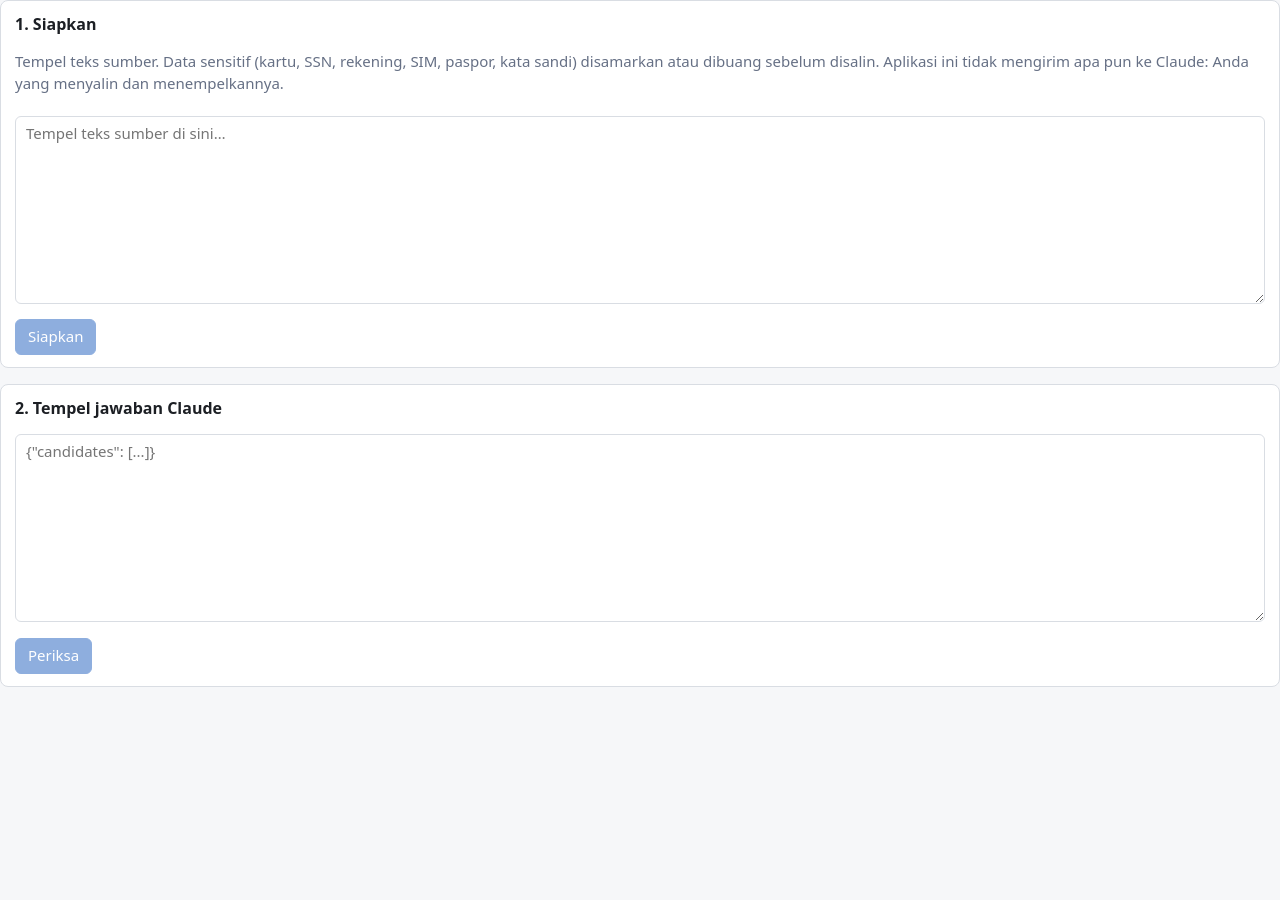
Test: BridgeTab › shows the general answer error as the server sent it
This screenshot has width=1280, height=900.
Type "src" into the text box labelled "teks sumber" at (640, 210), box [15,116,1265,304]
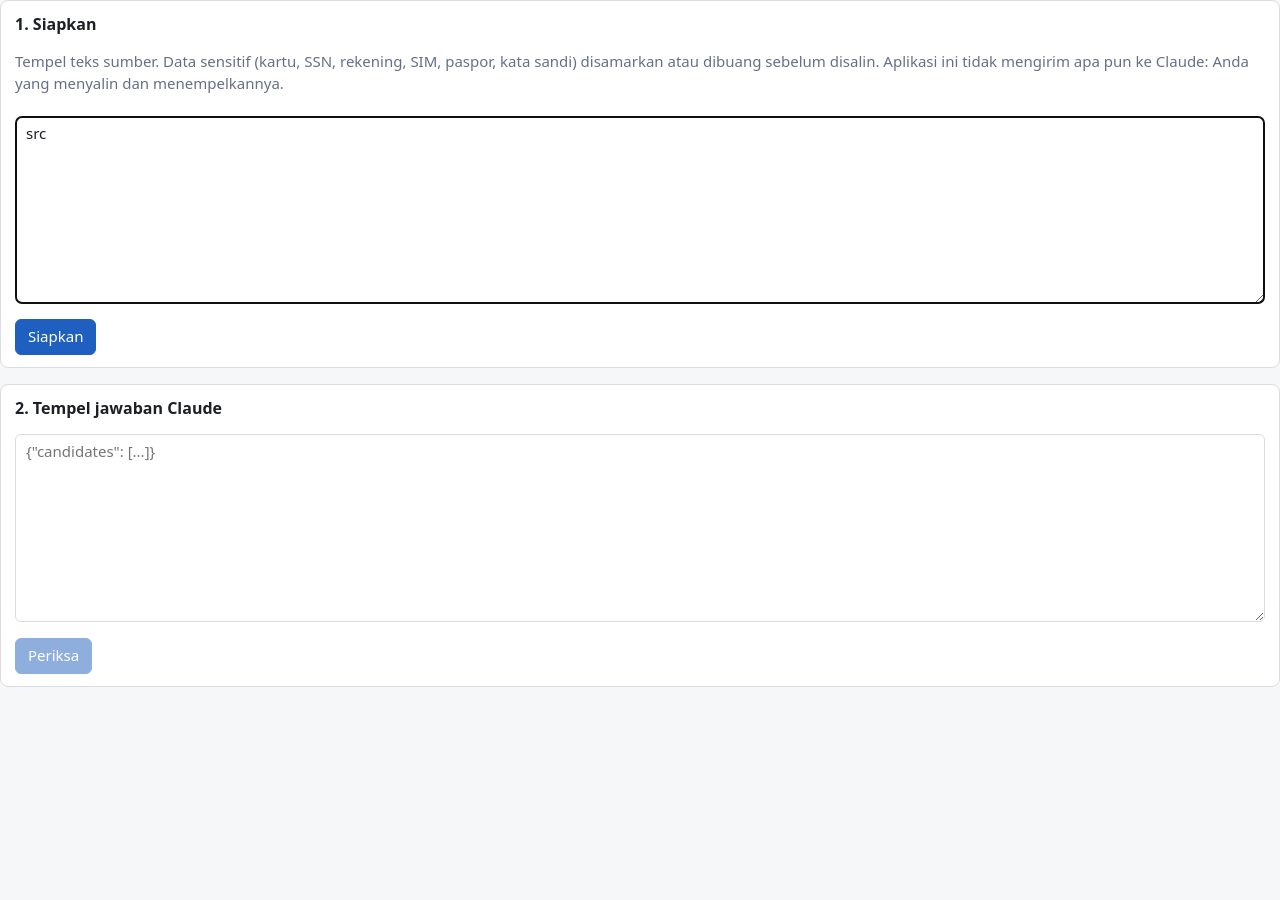
Type "oops" into the text box named "Jawaban JSON dari Claude" at (640, 528), box [15,434,1265,622]
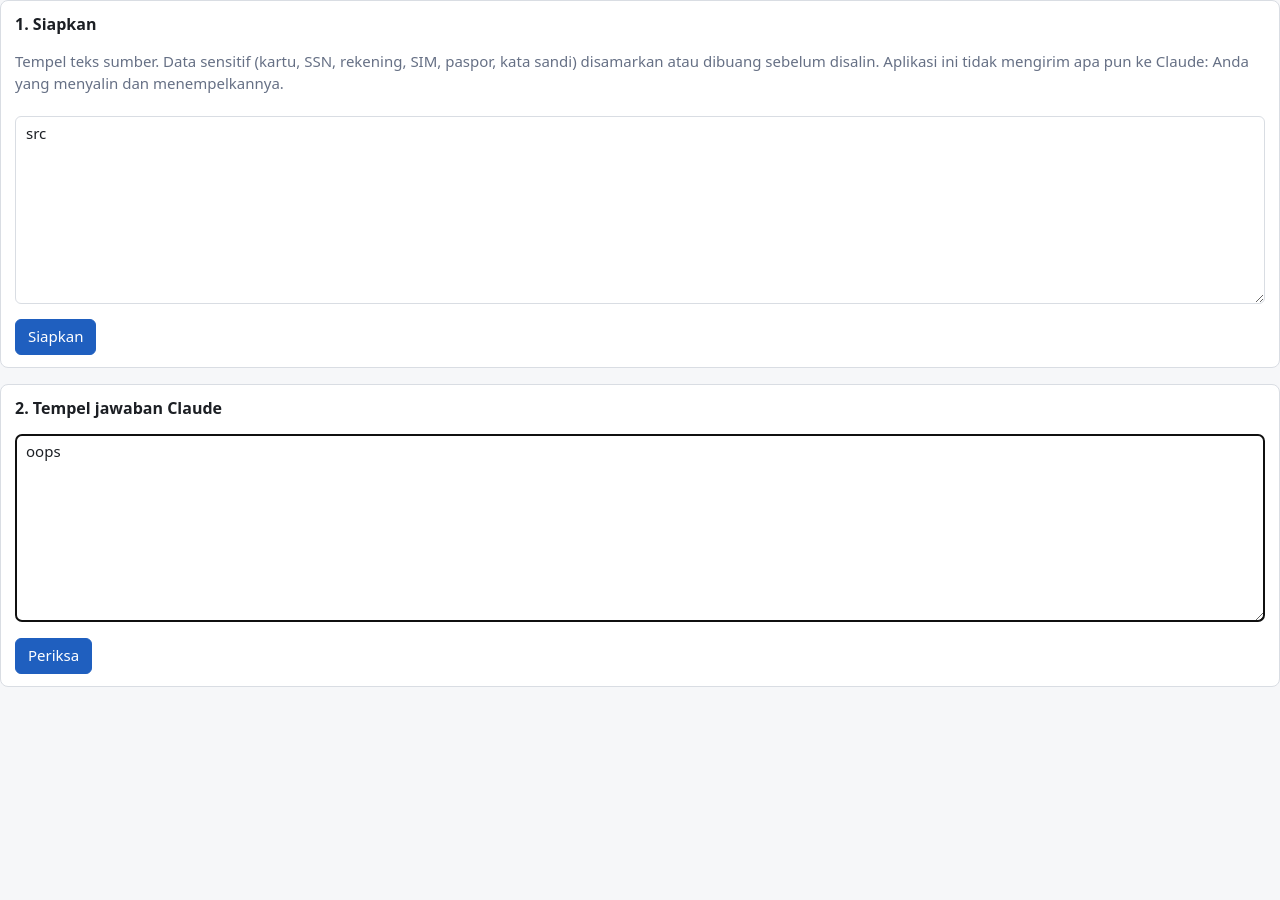
Click the button "Periksa" at (54, 656), box [15,638,92,674]
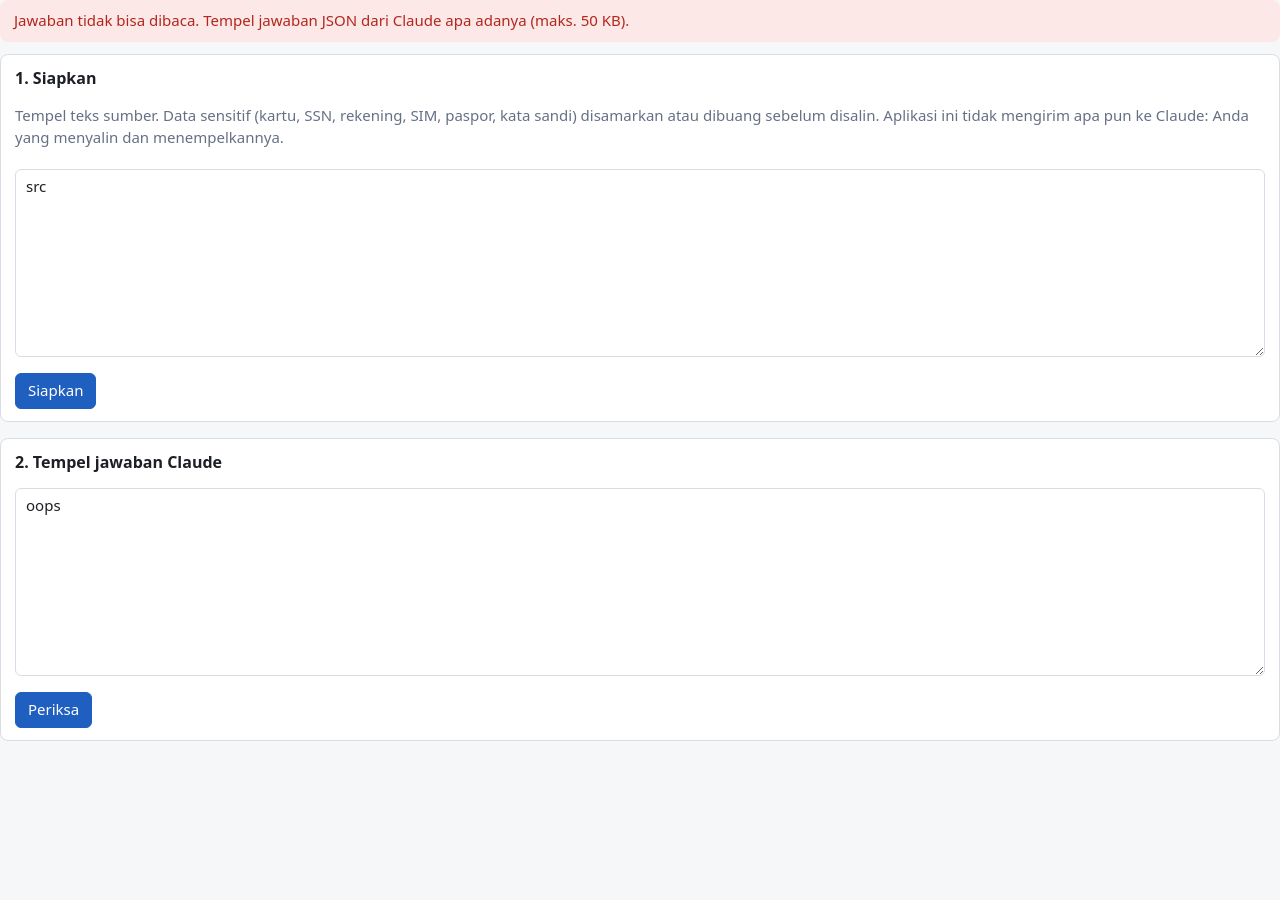
Now the text "Jawaban tidak bisa dibaca" is shown, box [14,10,629,30]
